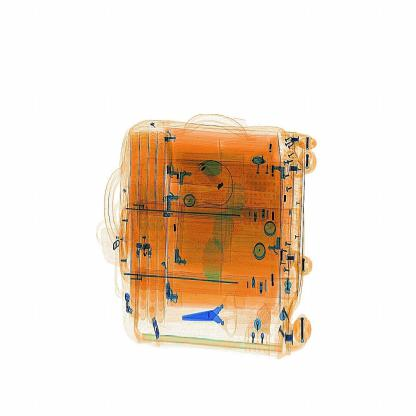gun: (182, 299, 240, 332)
